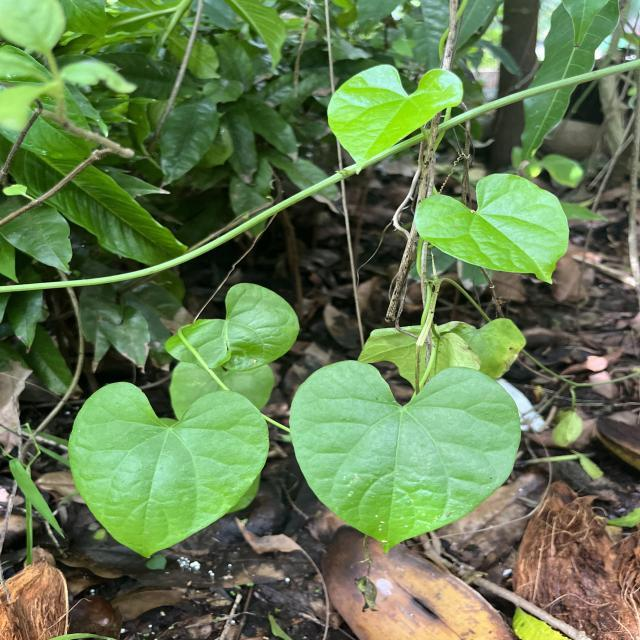Tinospora cordifolia: (284, 355, 524, 558), (61, 378, 272, 562), (412, 170, 571, 288), (323, 62, 466, 176)
